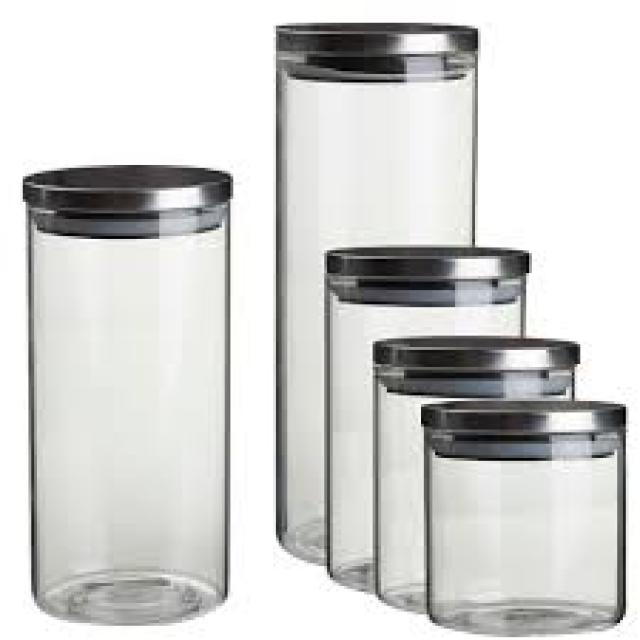glass: (273, 60, 478, 560), (25, 208, 222, 623), (324, 276, 526, 594), (373, 373, 569, 617), (424, 430, 617, 629)
metal: (370, 330, 575, 370), (23, 165, 228, 205), (418, 398, 620, 435), (324, 239, 526, 273), (270, 20, 475, 51)
